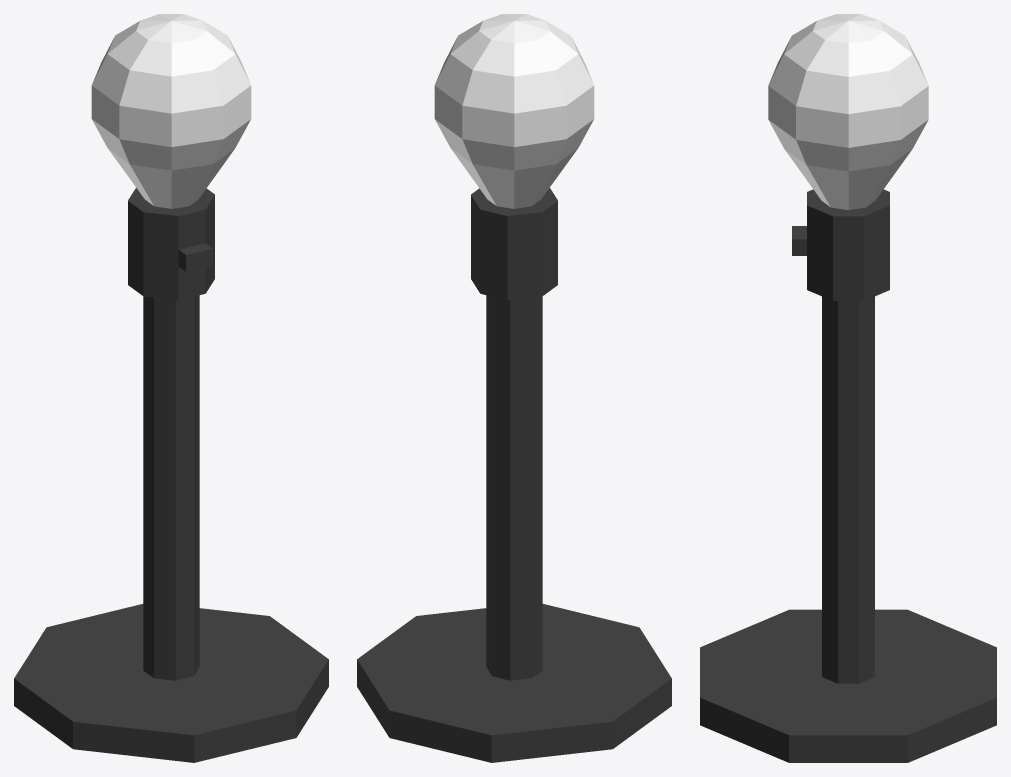
Rendered from prop_lamp_01.fbx.
The picture shows the model from 3 angles, left to right: view 1: azimuth 30°, elevation 25°; view 2: azimuth 150°, elevation 25°; view 3: azimuth 270°, elevation 25°; orthographic projection.
Parts seen in each view (by area): view 1: polySurface3; view 2: polySurface3; view 3: polySurface3.
Part boxes in pixels (box(x1,y1,x2,y2)): polySurface3: box(14, 14, 328, 762); polySurface3: box(357, 14, 671, 762); polySurface3: box(700, 14, 996, 762).
Size of the model in its own units: 0.4288 by 1.08 by 0.4288.
